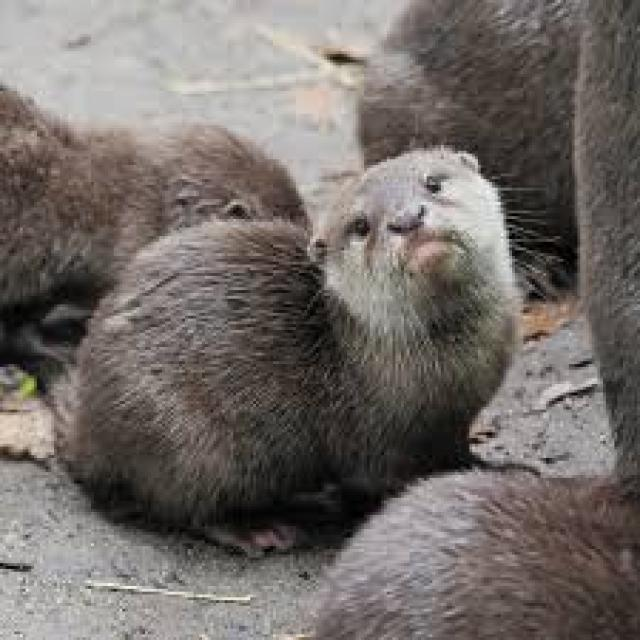Otter: (78, 140, 528, 524)
